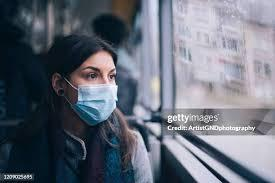mask: (72, 81, 120, 129)
